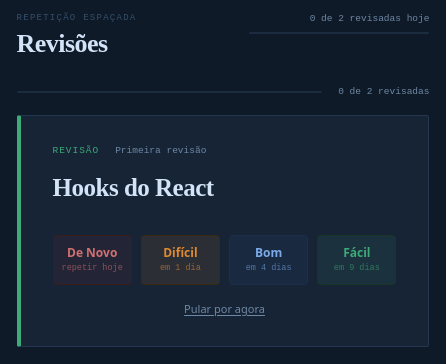
Test: ReviewPage › deve mover o review para o final ao pular e não mostrar conclusão
Check: the heading "Hooks do React" is shown, box [53, 174, 214, 201]
Click the button "Pular por agora". click: (224, 309)
box: [184, 300, 265, 317]
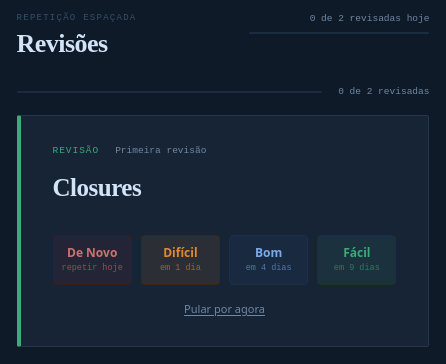
Check: the heading "Closures" is shown, box [53, 174, 141, 201]
